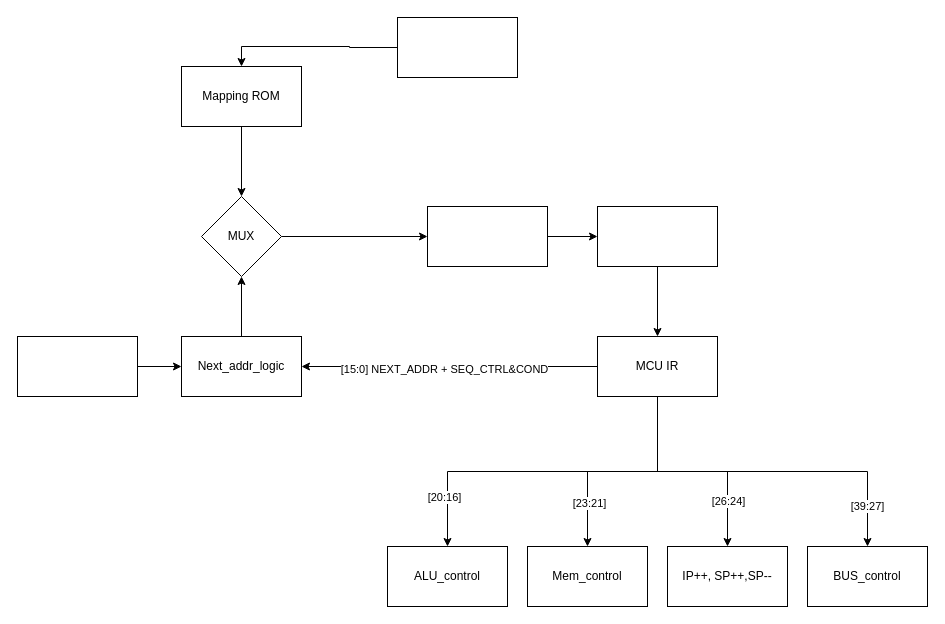
This 945x624 diagram has some shape labels left out. The shapes that lost their labels are listed below. From the top down, each one's box as (x1, y1, x2, y2) in pixels, then its label:
(396, 16, 518, 78): CR (opcode+mode)
(426, 206, 548, 266): MPC (counter)
(596, 206, 718, 266): Microcode_data
(16, 336, 138, 396): PS
